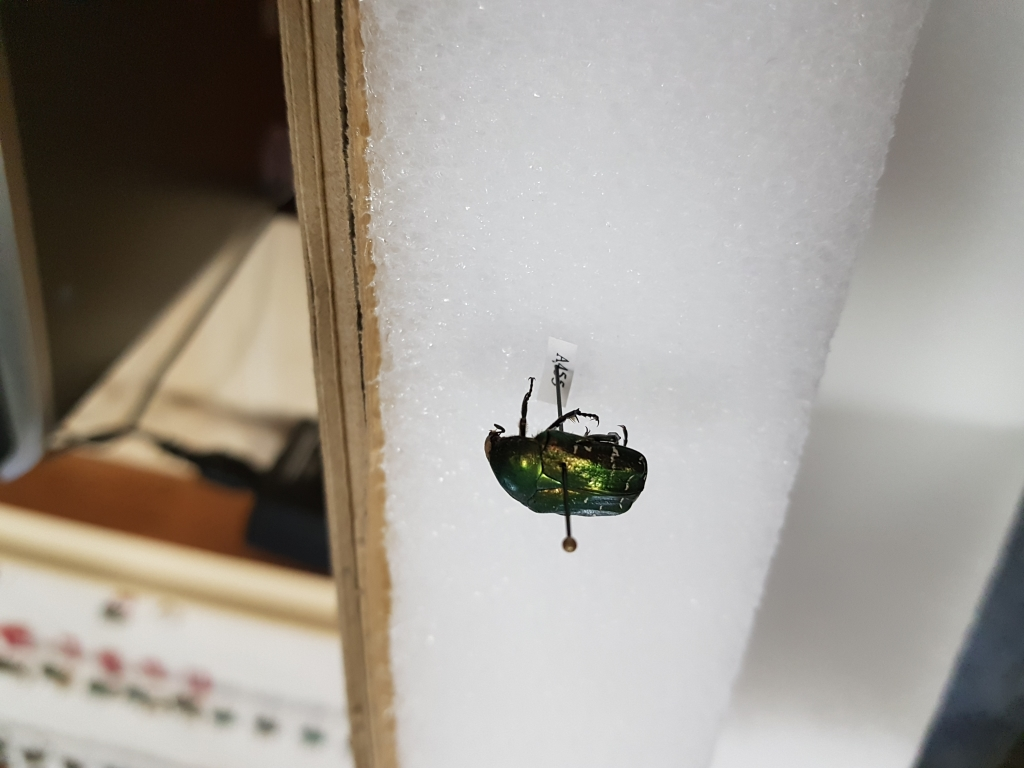Cetonia_kemali: (466, 367, 678, 524)
